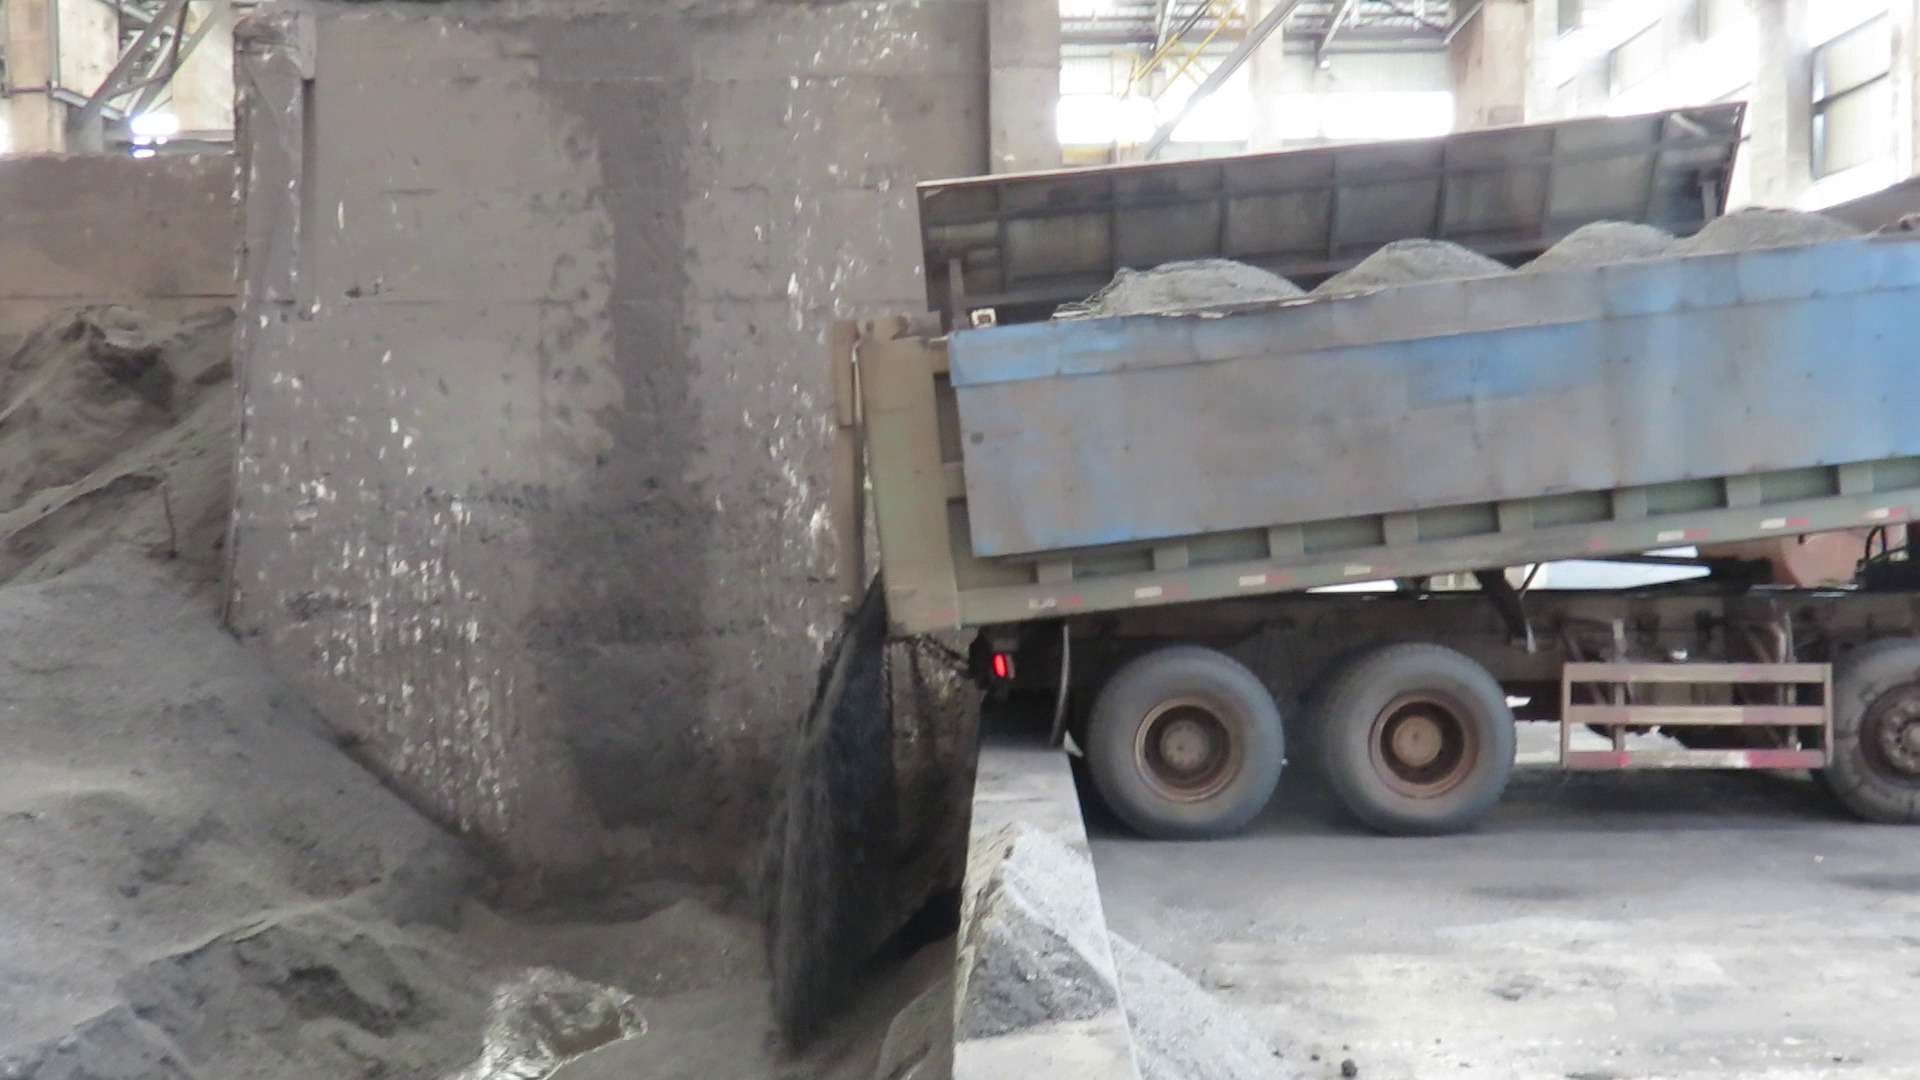truck: (810, 98, 1920, 841)
